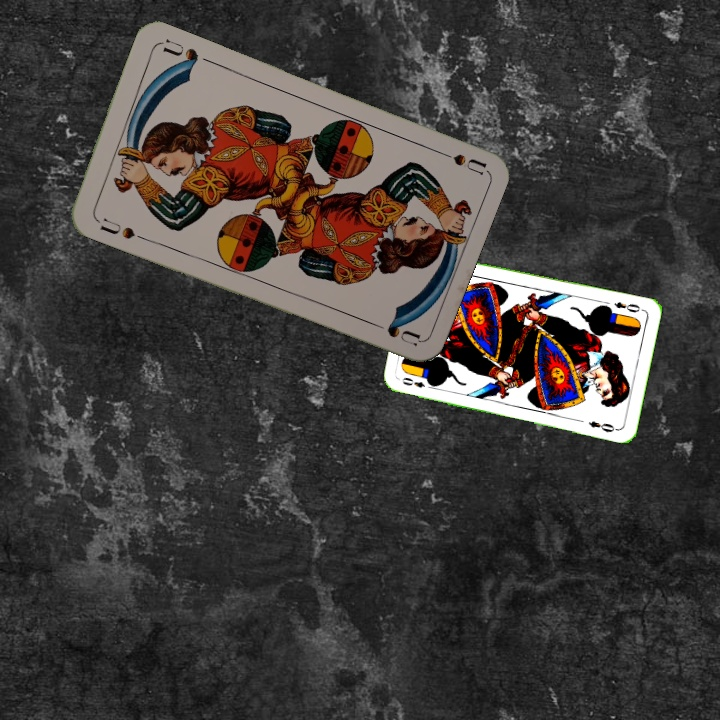EO: (398, 373, 437, 391), (610, 298, 646, 315)
SU: (429, 144, 487, 177), (90, 213, 138, 242)
